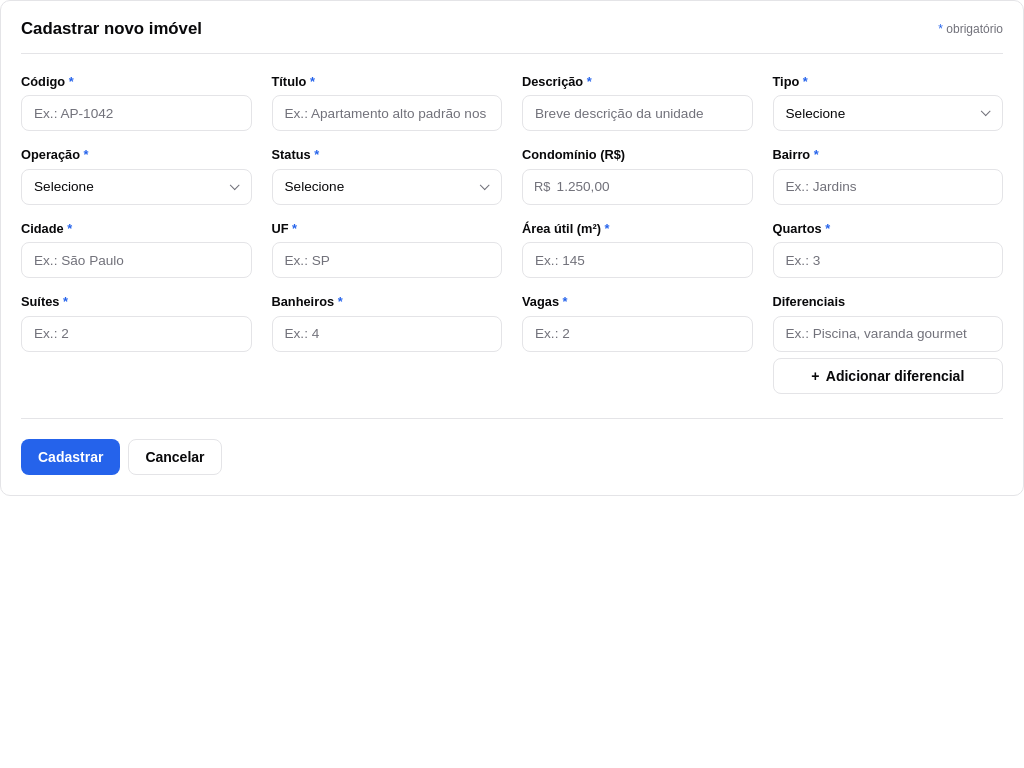
Test: FormularioDeImovel › cenario: operacao decide o campo de preco (D1) › Ambos mostra os dois precos
Select "Ambos" in the dropdown labelled "Operação" at (136, 187), box [21, 169, 252, 205]
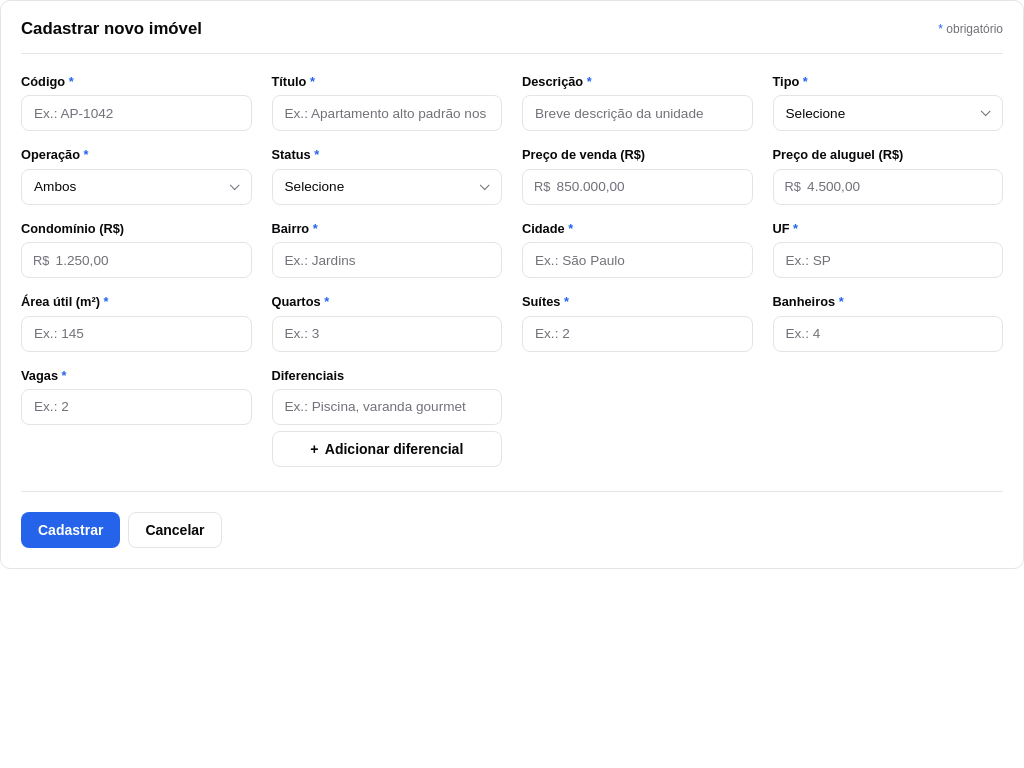
Now the field labelled "Preço de venda (R$)" is shown, box [522, 169, 752, 205]
Now the field labelled "Preço de aluguel (R$)" is shown, box [772, 169, 1003, 205]
